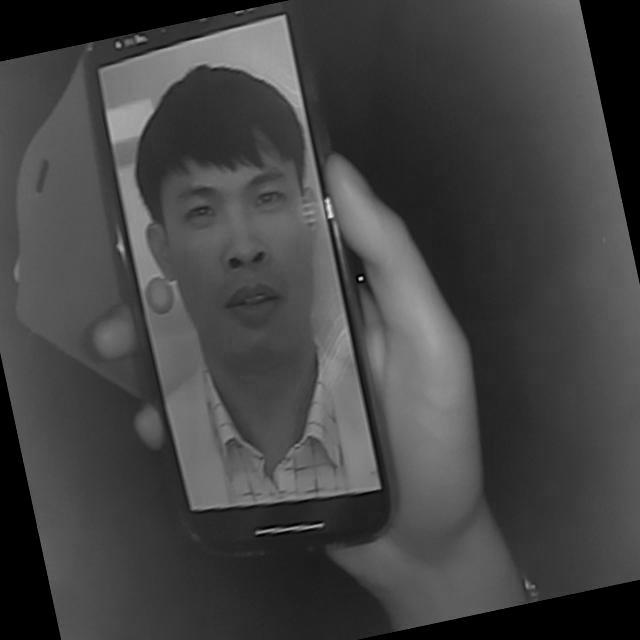fake: (70, 0, 418, 587)
